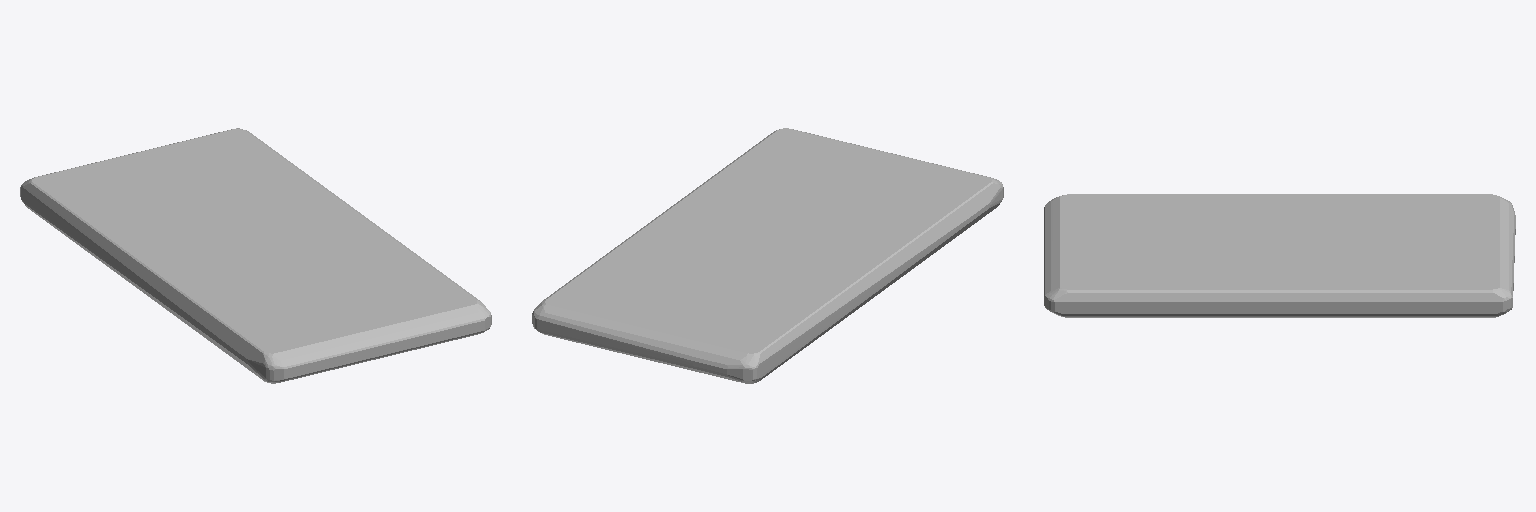
robot.urdf — root:
<robot name="root">
  <link name="link_coacd_convex_piece_0">
    <inertial>
      <origin xyz="0 0 0" rpy="0 0 0"/>
      <inertia ixx="3.84E-02" ixy="-1.64E-05" ixz="6.22E-06" iyy="1.01E-02" iyz="-2.41E-06" izz="4.82E-02"/>
    </inertial>
    <visual>
      <origin xyz="0 0 0" rpy="0 0 0"/>
      <geometry>
        <mesh filename="coacd_convex_piece_0.obj" scale="1.0000E+00 1.0000E+00 1.0000E+00"/>
      </geometry>
      <material name="">
        <color rgba="7.50E-01 7.50E-01 7.50E-01 1"/>
      </material>
    </visual>
    <collision>
      <origin xyz="0 0 0" rpy="0 0 0"/>
      <geometry>
        <mesh filename="coacd_convex_piece_0.obj" scale="1.0000E+00 1.0000E+00 1.0000E+00"/>
      </geometry>
    </collision>
  </link>
</robot>

--- Render facts (derived) ---
3 views of the same robot in one strip: view 1: azimuth 30°, elevation 25°; view 2: azimuth 150°, elevation 25°; view 3: azimuth 270°, elevation 25° (orthographic).
Model root with 1 links and 0 joints (none), rooted at link_coacd_convex_piece_0, posed all joints at 0.
Visible links, largest first — view 1: link_coacd_convex_piece_0; view 2: link_coacd_convex_piece_0; view 3: link_coacd_convex_piece_0.
Boxes of the visible links, x1=… form: link_coacd_convex_piece_0: x1=20, y1=128, x2=491, y2=383; link_coacd_convex_piece_0: x1=532, y1=128, x2=1003, y2=383; link_coacd_convex_piece_0: x1=1044, y1=194, x2=1515, y2=317.
Bounding box of the posed robot: 0.9074 × 1.78 × 0.1158 m (x, y, z).
Meshes: 1 distinct files referenced, 1 mesh visuals loaded (1 OBJ).
